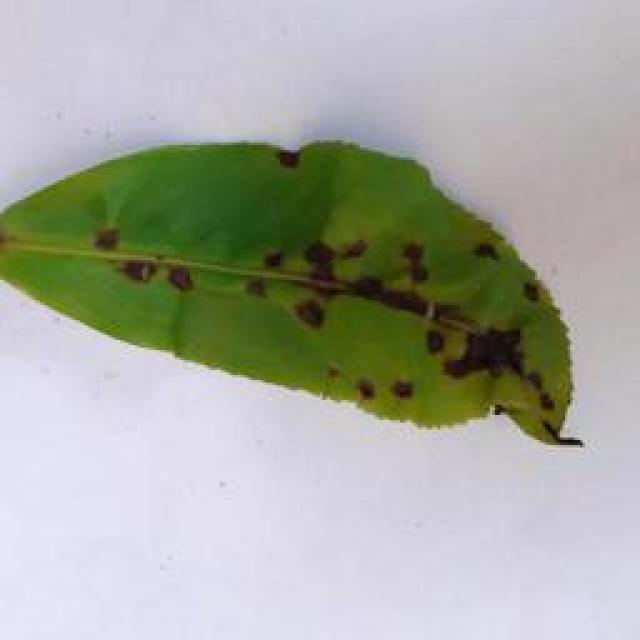Helopeltis: (0, 128, 609, 462)
